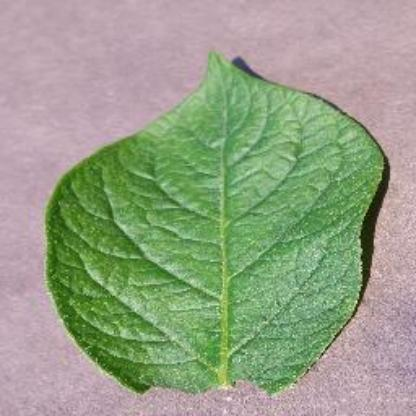Healthy-plant: (43, 43, 389, 403)
